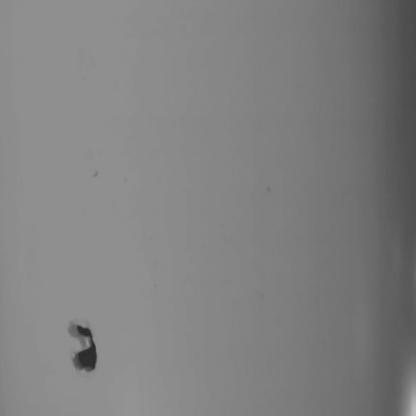kongdong: (53, 318, 109, 375)
